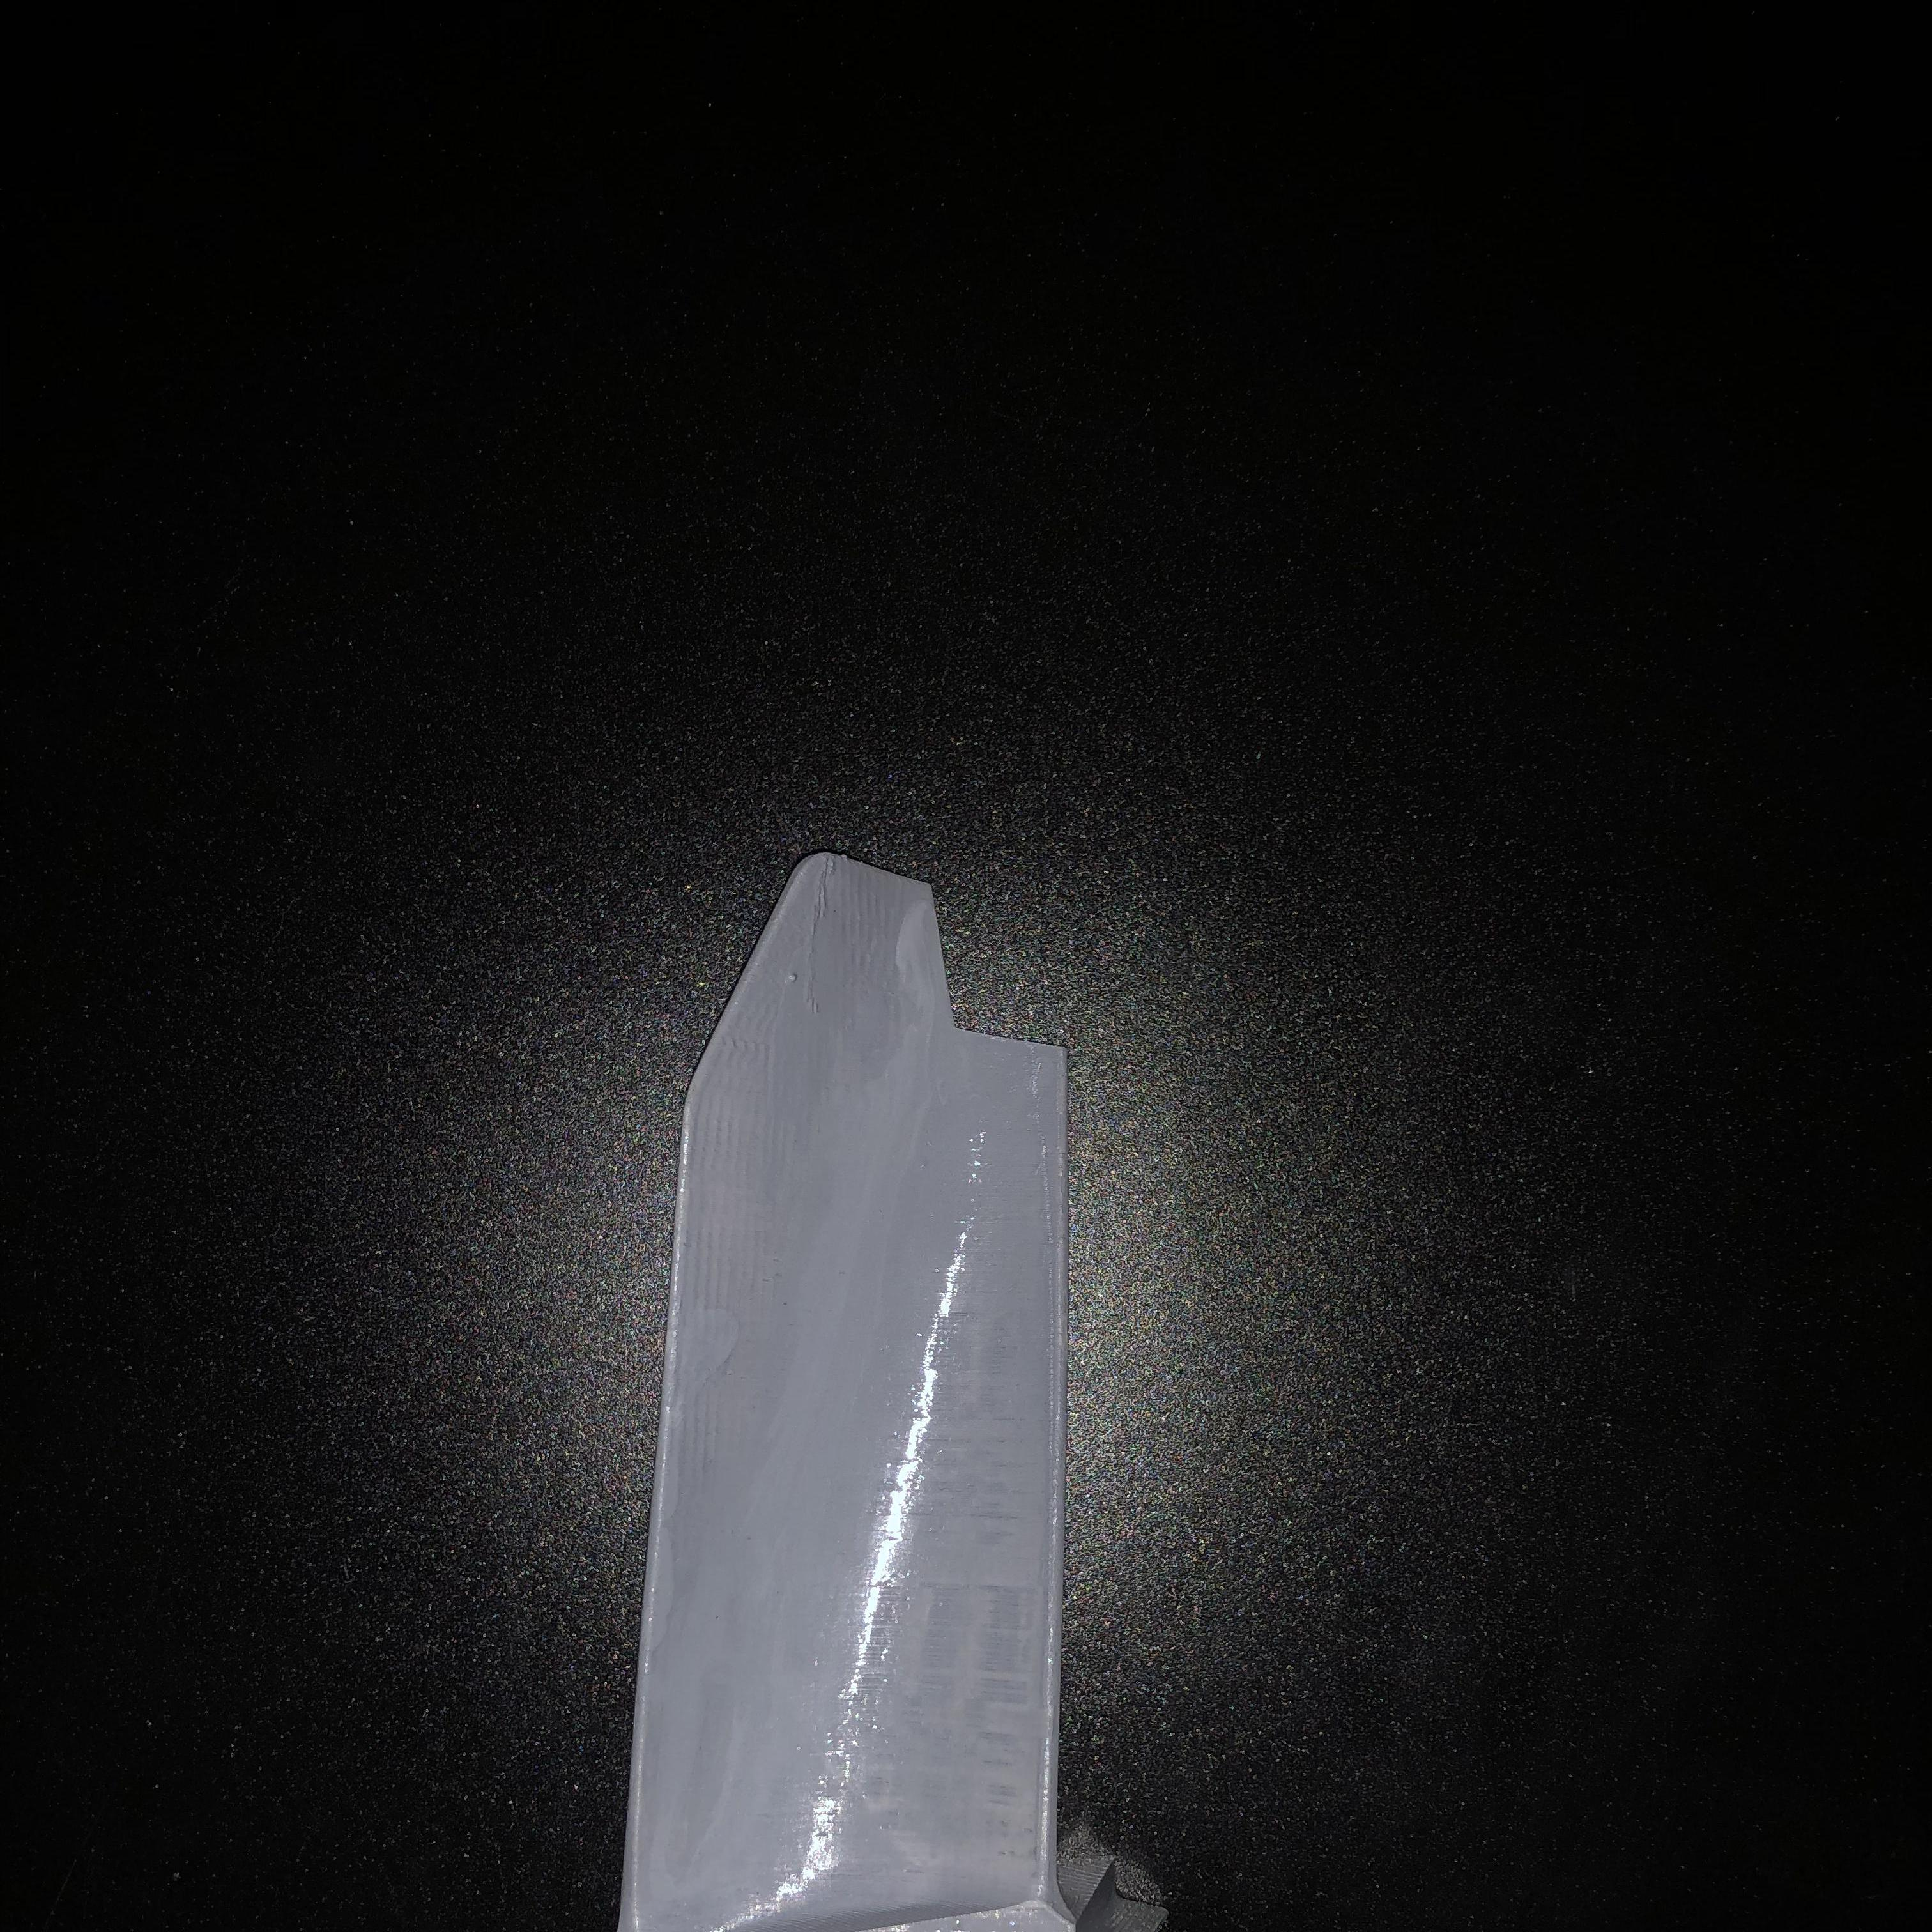fracture: (913, 888, 1054, 1069)
